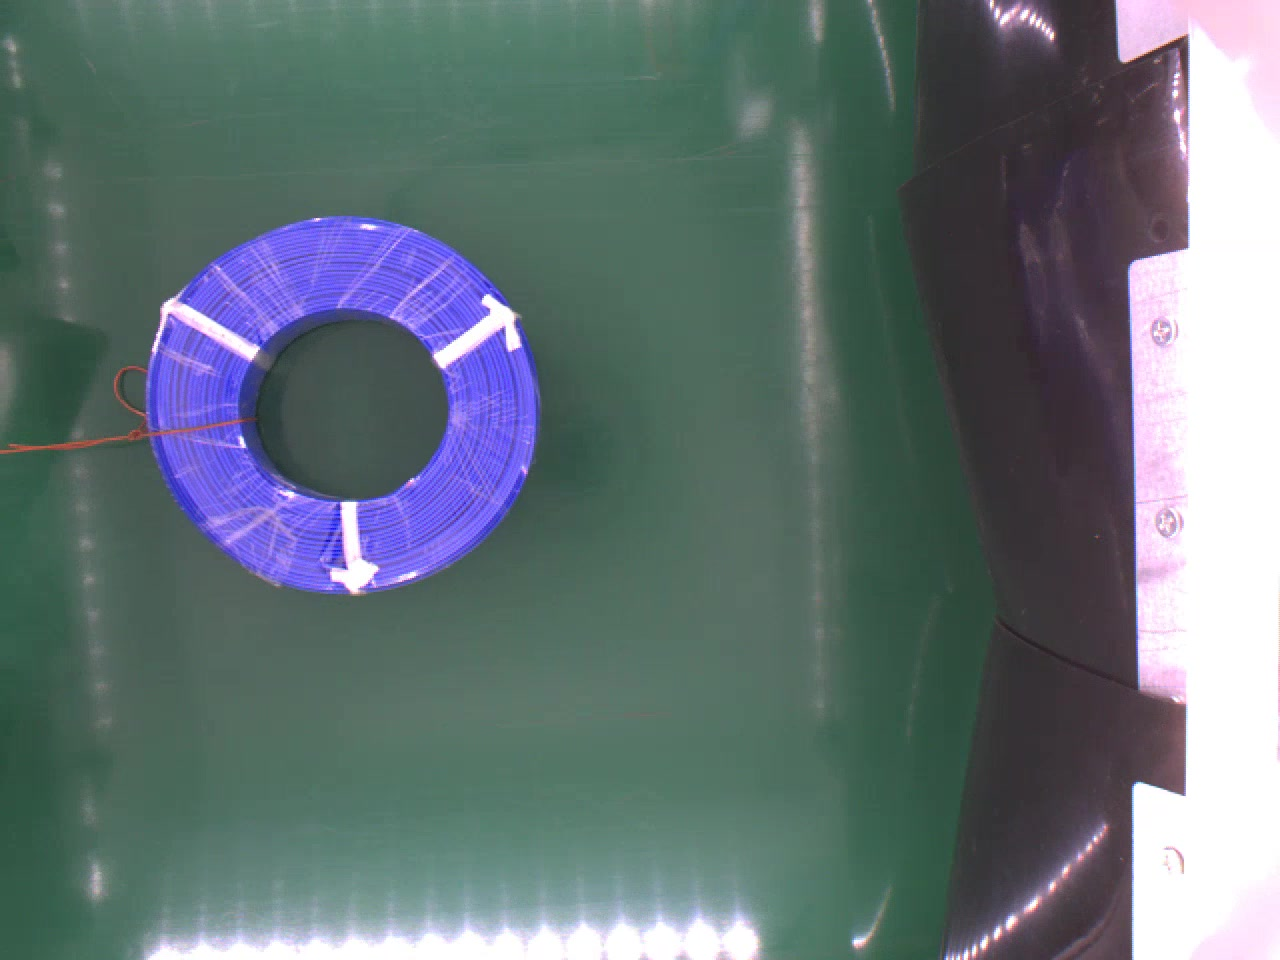blue: (143, 214, 538, 594)
